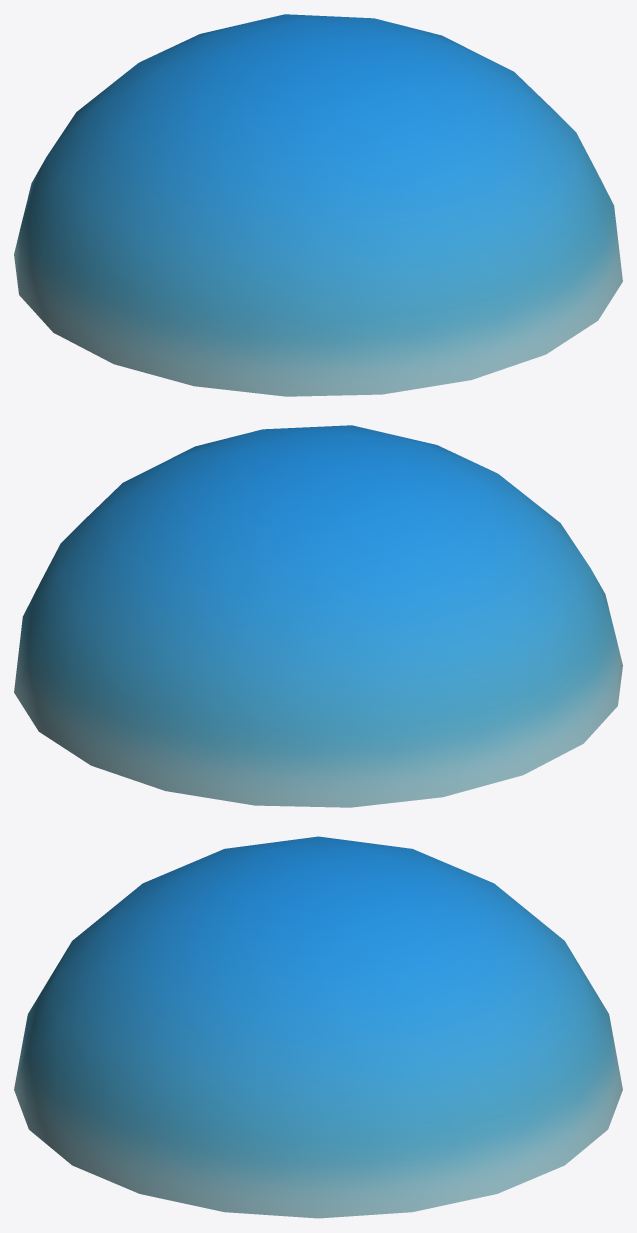
Rendered from SkyDome.fbx.
The picture shows the model from 3 angles, top to bottom: view 1: azimuth 30°, elevation 25°; view 2: azimuth 150°, elevation 25°; view 3: azimuth 270°, elevation 25°; orthographic projection.
Visible parts, largest first — view 1: SkyDome; view 2: SkyDome; view 3: SkyDome.
Boxes of the visible parts, x1=… form: SkyDome: x1=14, y1=14, x2=622, y2=396; SkyDome: x1=14, y1=425, x2=622, y2=807; SkyDome: x1=14, y1=836, x2=622, y2=1218.
Size of the model in its own units: 65880 by 26224 by 65880.
1 material, 1 textured.
